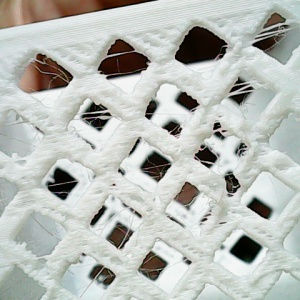3dpstringing: (19, 58, 71, 102), (199, 127, 247, 174), (99, 206, 140, 254), (94, 51, 156, 82), (168, 194, 217, 233), (62, 262, 110, 298), (245, 21, 297, 53), (68, 104, 114, 139), (137, 247, 189, 277), (146, 106, 197, 135), (24, 214, 76, 242), (219, 74, 268, 103), (119, 160, 178, 182), (203, 42, 231, 79), (42, 176, 88, 198), (3, 251, 52, 270), (9, 150, 34, 168), (4, 117, 28, 130)
3dpunderextrusion: (249, 128, 295, 185), (207, 171, 255, 210), (85, 245, 127, 276)
